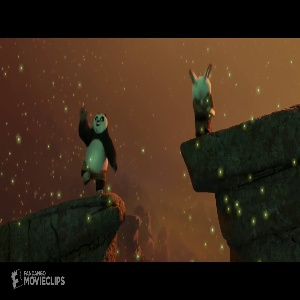po: (74, 105, 122, 195)
shifu: (185, 62, 218, 137)
